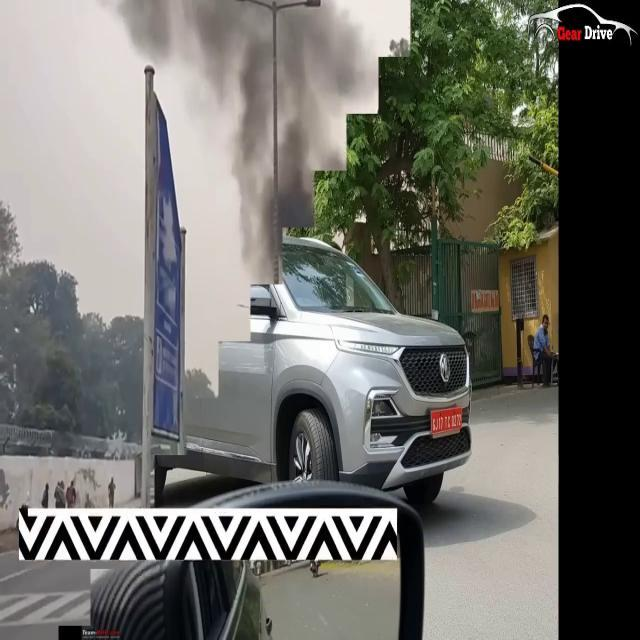Smoke: (195, 3, 353, 268)
